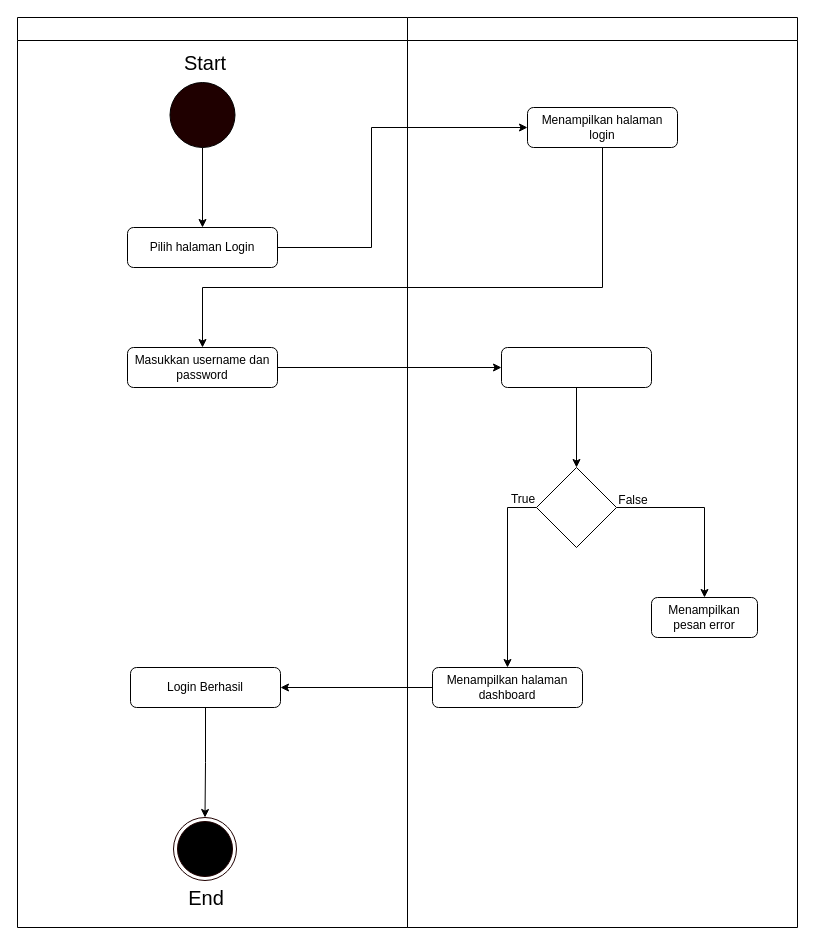
Some shapes in this 815 by 945 pixel diagram are drawn without their labels. The shapes that lost their labels are listed below. From the top down, each one's box as (x1, y1, x2, y2) in pixels, then its label:
(500, 346, 652, 388): Cek username dan password
(16, 16, 408, 928): Admin
(406, 16, 798, 928): Sistem
